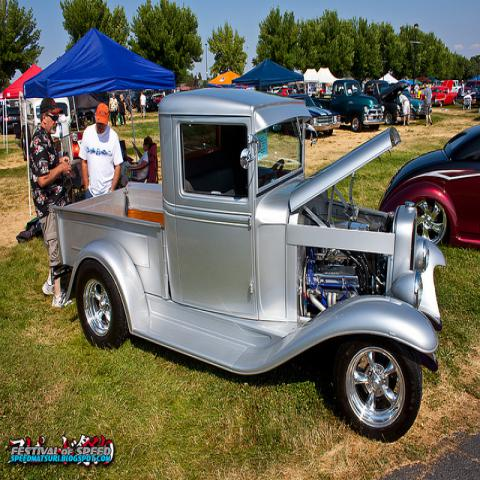car: (376, 123, 480, 249), (288, 94, 340, 136), (431, 74, 459, 108), (403, 88, 425, 120), (134, 94, 159, 113), (456, 79, 479, 99), (410, 84, 432, 99)
truck: (55, 84, 446, 445), (311, 79, 386, 132)
